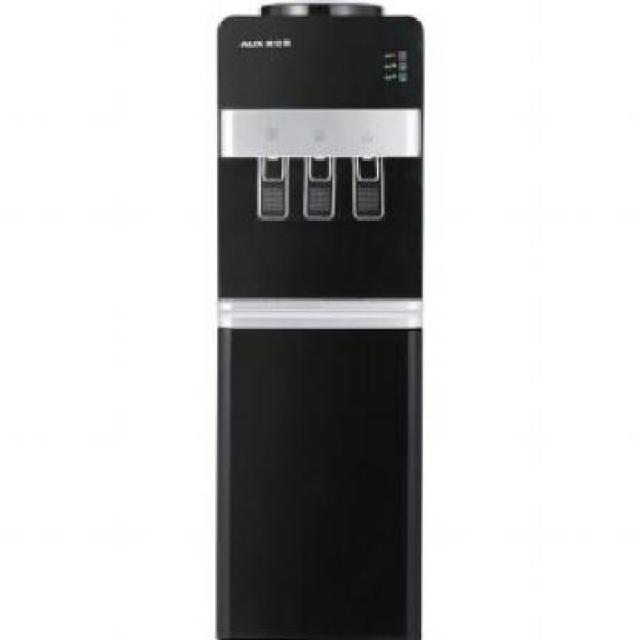cooler: (212, 0, 426, 640)
